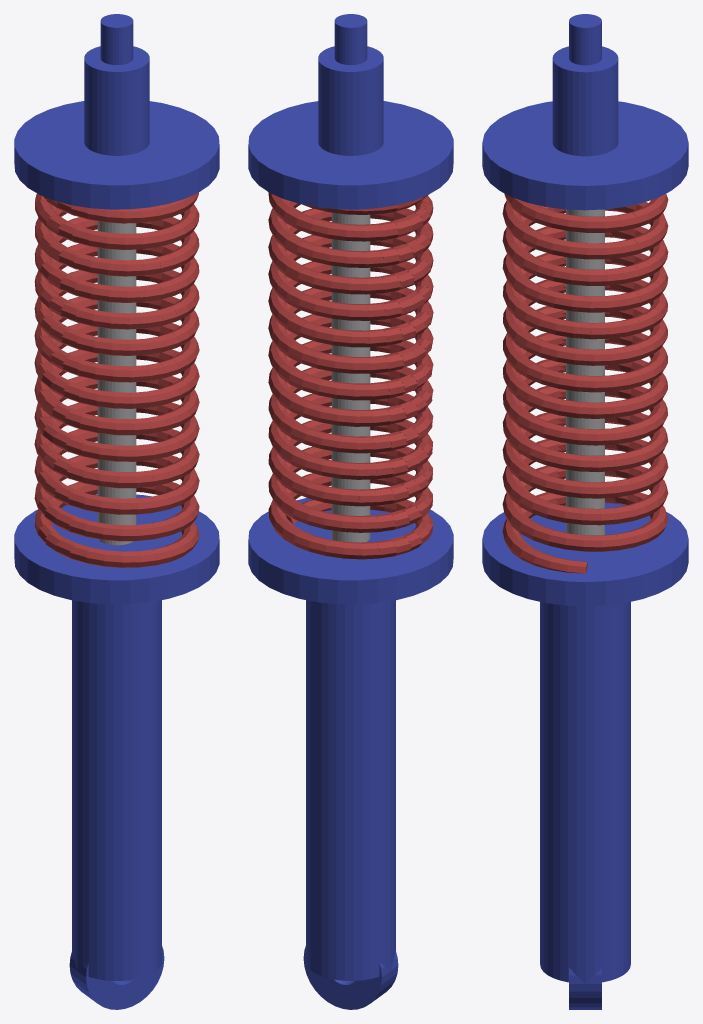
File: SHOCK_001_Coilover.glb
The picture shows the model from 3 angles, left to right: view 1: azimuth 30°, elevation 25°; view 2: azimuth 150°, elevation 25°; view 3: azimuth 270°, elevation 25°; orthographic projection.
Visible parts, largest first — view 1: spring, body, upper_seat, lower_seat, upper_mount, shaft; view 2: spring, body, upper_seat, lower_seat, upper_mount, shaft; view 3: spring, body, upper_seat, lower_seat, upper_mount, shaft.
Part boxes in pixels (left/top/right/bottom): spring: left=34, top=192, right=199, bottom=567; body: left=69, top=600, right=164, bottom=1009; upper_seat: left=14, top=101, right=219, bottom=209; lower_seat: left=14, top=494, right=219, bottom=604; upper_mount: left=84, top=14, right=149, bottom=155; shaft: left=97, top=221, right=136, bottom=545; spring: left=268, top=192, right=433, bottom=559; body: left=303, top=600, right=398, bottom=1009; upper_seat: left=248, top=101, right=453, bottom=209; lower_seat: left=248, top=498, right=453, bottom=604; upper_mount: left=318, top=14, right=383, bottom=155; shaft: left=331, top=212, right=370, bottom=542; spring: left=502, top=193, right=668, bottom=573; body: left=540, top=602, right=630, bottom=1009; upper_seat: left=482, top=101, right=688, bottom=210; lower_seat: left=482, top=502, right=688, bottom=606; upper_mount: left=552, top=14, right=618, bottom=156; shaft: left=566, top=209, right=604, bottom=535.
Size of the model in its own units: 0.1 by 0.527 by 0.1.
